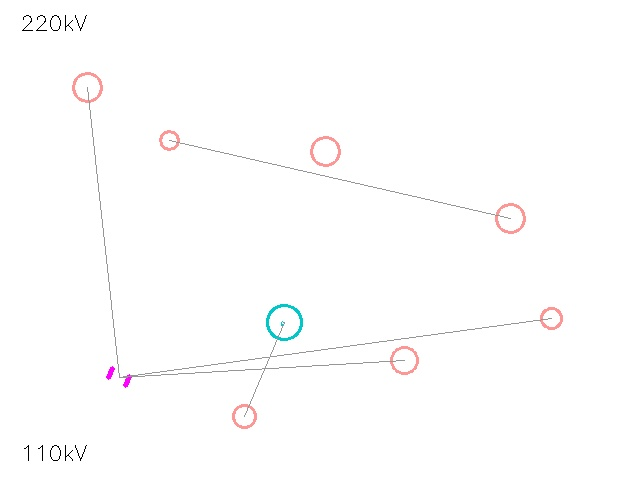capacitor: (103, 361, 135, 393)
current_transformer: (58, 58, 116, 116)
generator: (267, 305, 301, 339)
reactor: (531, 298, 571, 338)
surge_arrester: (482, 190, 538, 246), (151, 122, 187, 158)
voltage_transformer: (297, 123, 353, 179), (378, 334, 430, 386), (221, 393, 267, 439)
